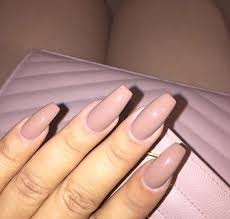hand: (1, 95, 188, 218)
